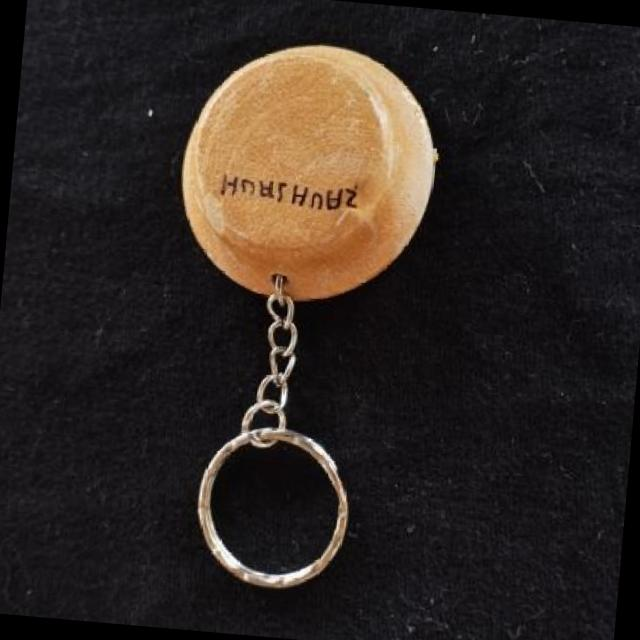Llavero: (170, 32, 446, 316)
